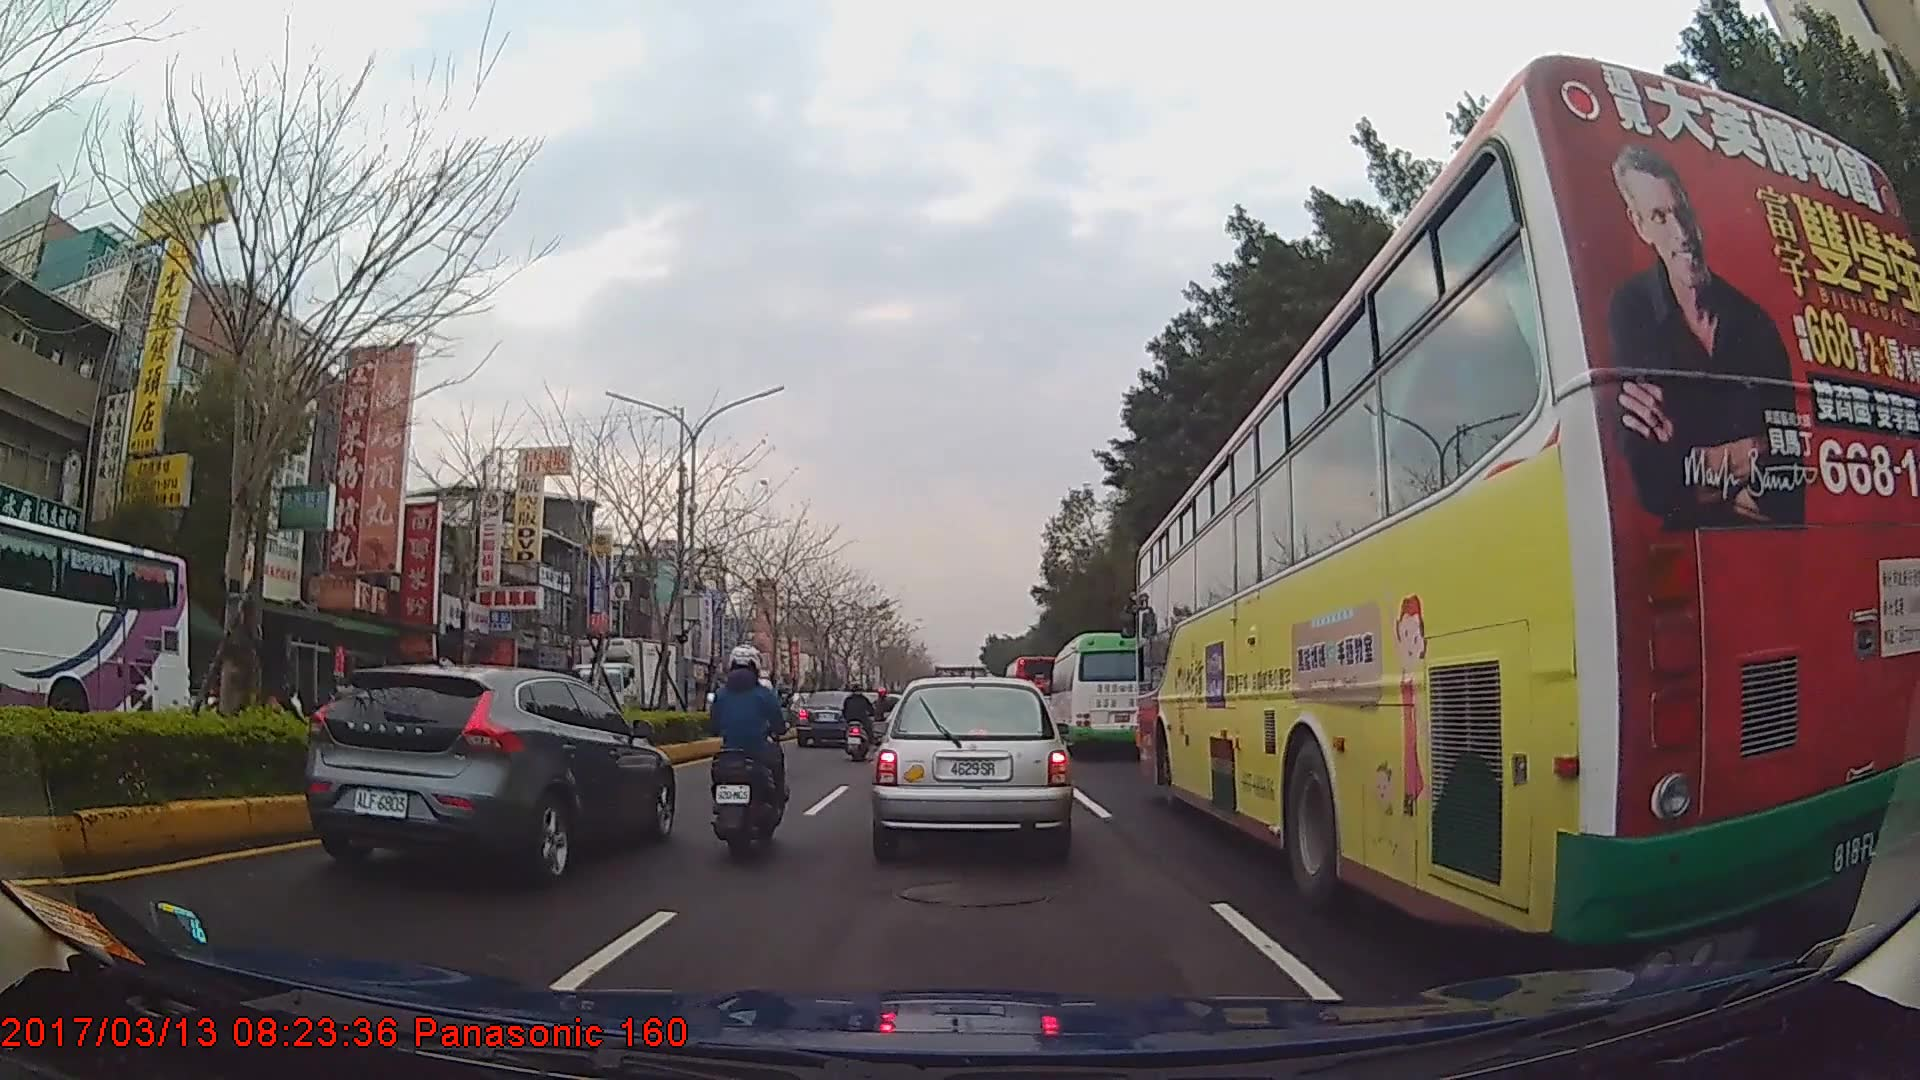rider: (707, 638, 791, 847), (742, 668, 784, 774), (842, 679, 877, 753), (871, 687, 896, 742)
vehicle: (1136, 46, 1920, 950), (307, 659, 676, 879), (0, 512, 190, 750), (873, 669, 1072, 851), (546, 624, 692, 749), (1048, 629, 1165, 756), (1002, 650, 1064, 725), (797, 686, 872, 744)
